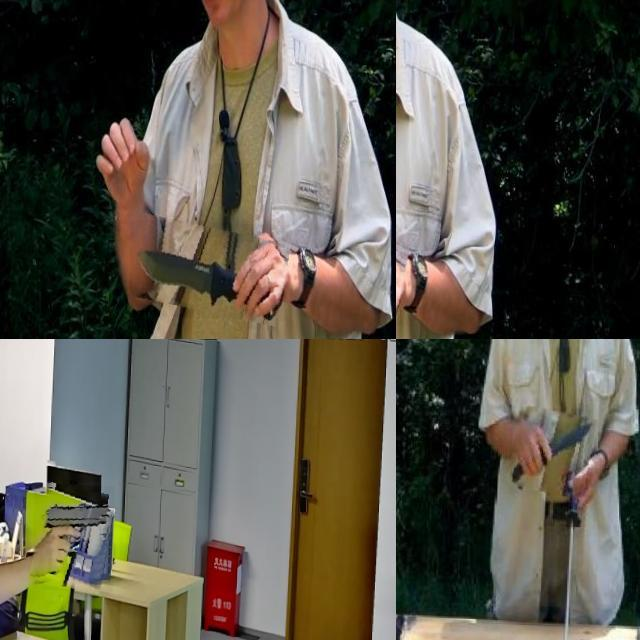-: (131, 218, 290, 318), (396, 223, 475, 323), (511, 405, 595, 495)
gun-knife-thesis - v11 Yolov5 augmented: (34, 482, 114, 590)
